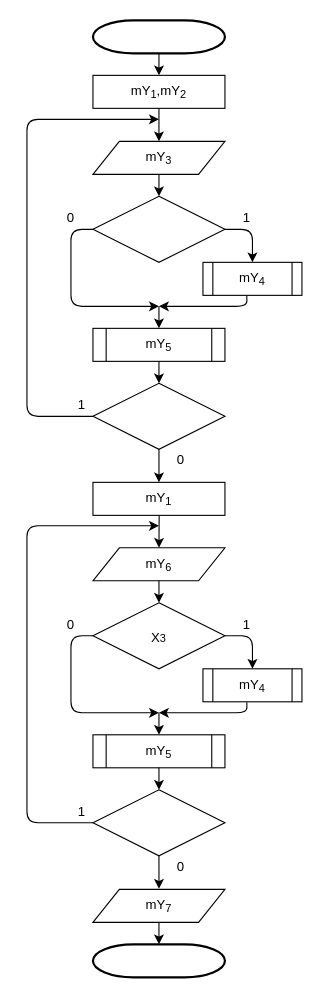
This 321x997 diagram has some shape labels left out. The shapes that lost their labels are listed below. From the top down, each one's centre as x and y in pixels, then its label:
At pixel 158 36: "start".
At pixel 158 228: "X 1".
At pixel 158 415: "X 2".
At pixel 158 822: "X 4".
At pixel 158 960: "end".
